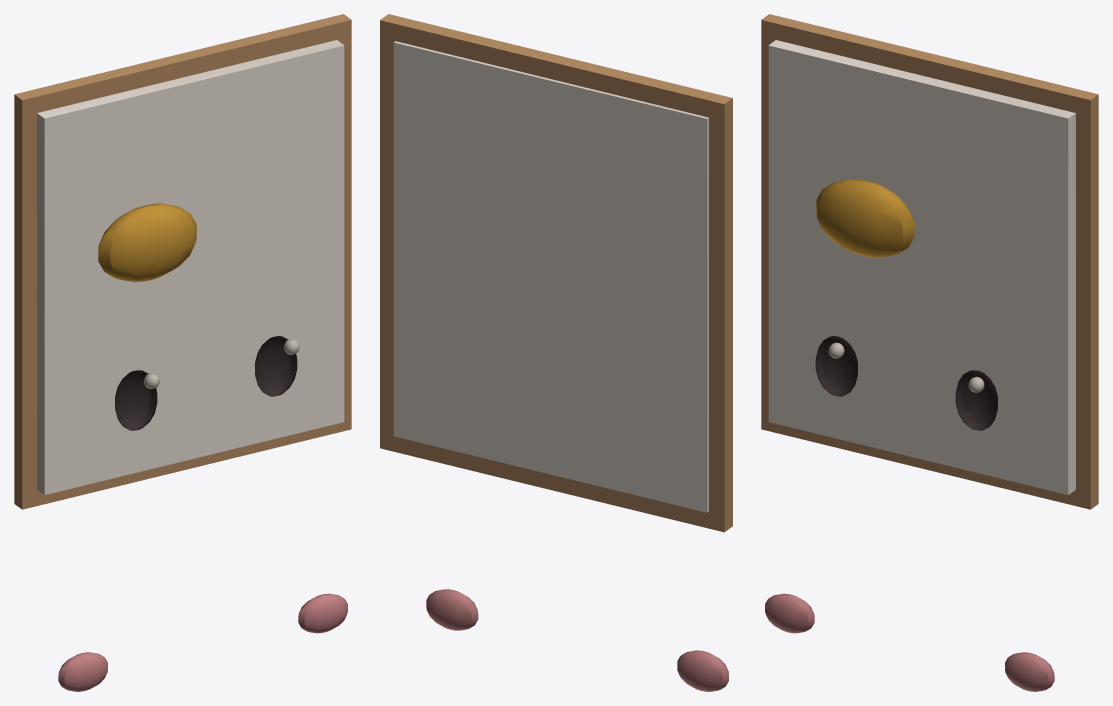
3 renders of one model, left to right at view 1: azimuth 30°, elevation 25°; view 2: azimuth 150°, elevation 25°; view 3: azimuth 330°, elevation 25°, orthographic. The views are drawn at different scales.
Visible parts, largest first — view 1: pet_pc5a1b856; view 2: pet_pc5a1b856; view 3: pet_pc5a1b856.
Boxes of the visible parts, <box> form: pet_pc5a1b856: <box>14,14,351,691</box>; pet_pc5a1b856: <box>380,14,732,691</box>; pet_pc5a1b856: <box>761,14,1098,691</box>.
Bounding box in the file's own units: 0.3296 × 0.5633 × 0.0709.
